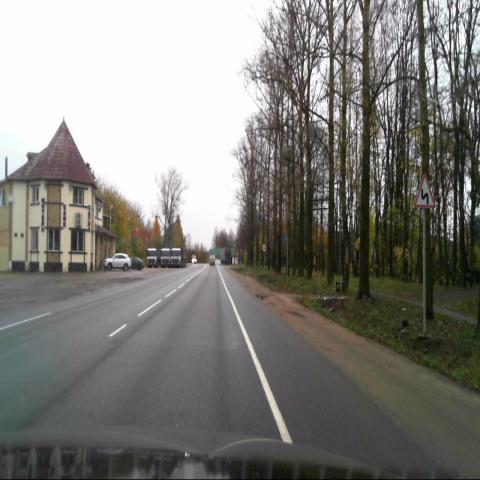1_12_2: (415, 174, 434, 210)
